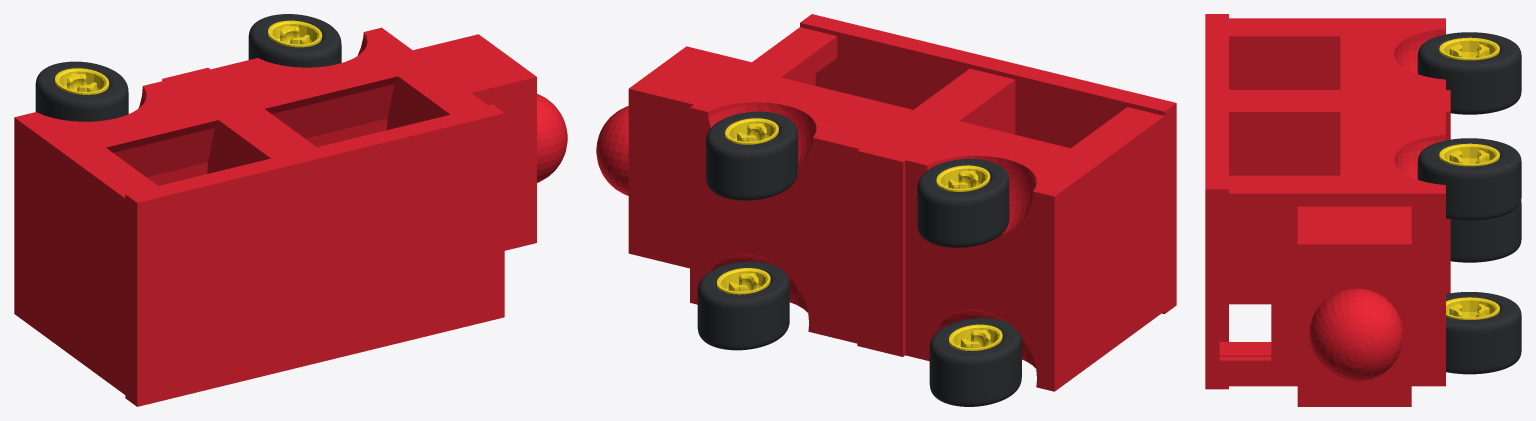
The model's file is tinker.obj.
3 views of the same model, side by side, from view 1: azimuth 30°, elevation 25°; view 2: azimuth 150°, elevation 25°; view 3: azimuth 270°, elevation 25° (orthographic). The views are drawn at different scales.
Visible parts, largest first — view 1: group_0_15277357, group_0_2829873, group_0_16768282; view 2: group_0_15277357, group_0_2829873, group_0_16768282; view 3: group_0_15277357, group_0_2829873, group_0_16768282.
Part boxes in pixels (<box>): group_0_15277357: <box>14,27,567,406</box>; group_0_2829873: <box>35,14,341,121</box>; group_0_16768282: <box>55,20,322,94</box>; group_0_15277357: <box>596,14,1176,391</box>; group_0_2829873: <box>697,111,1021,406</box>; group_0_16768282: <box>717,118,1002,350</box>; group_0_15277357: <box>1205,14,1450,406</box>; group_0_2829873: <box>1417,32,1521,374</box>; group_0_16768282: <box>1439,37,1499,319</box>.
Bounding box in the file's own units: 120 × 48 × 67.
